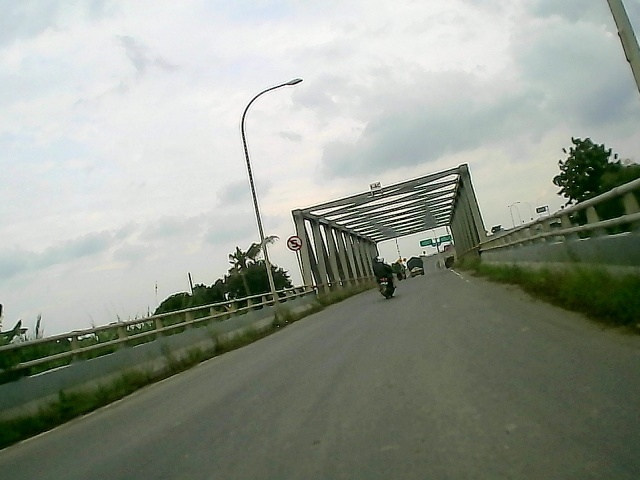Dilarang berhenti: (285, 235, 306, 256)
